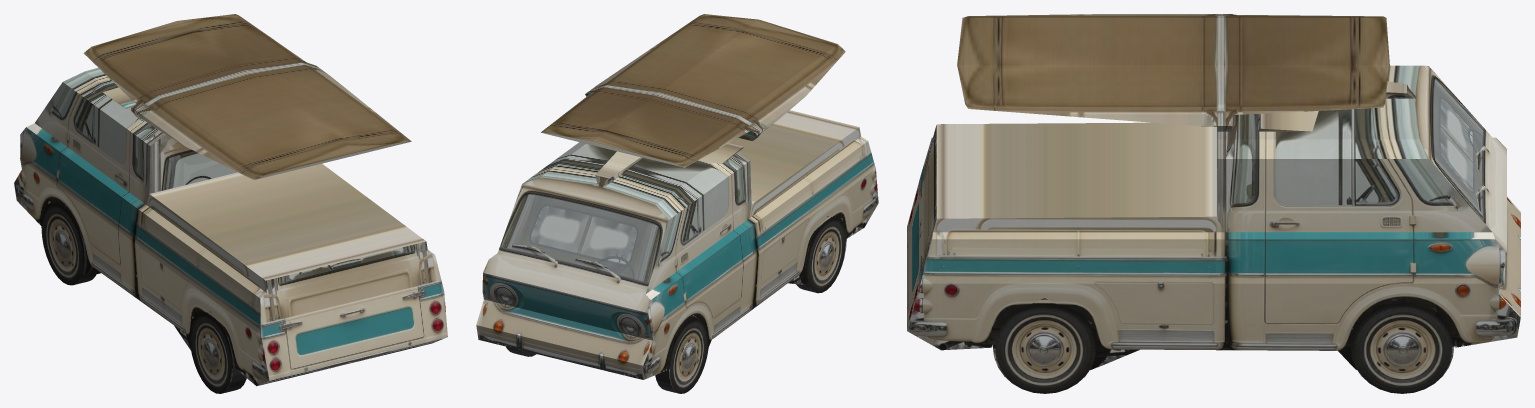
Rendered from utility_cart.glb.
The picture shows the model from 3 angles, left to right: view 1: azimuth 30°, elevation 25°; view 2: azimuth 150°, elevation 25°; view 3: azimuth 270°, elevation 25°; orthographic projection. The views are drawn at different scales.
Parts seen in each view (by area): view 1: utility_cart, wheel_BL, wheel_FL; view 2: utility_cart, wheel_FL, wheel_BL; view 3: utility_cart, wheel_BR, wheel_FR.
Boxes of the visible parts, x1=… form: utility_cart: x1=14, y1=14, x2=447, y2=386; wheel_BL: x1=189, y1=311, x2=246, y2=393; wheel_FL: x1=41, y1=202, x2=96, y2=285; utility_cart: x1=476, y1=14, x2=878, y2=379; wheel_FL: x1=655, y1=315, x2=708, y2=393; wheel_BL: x1=796, y1=216, x2=846, y2=293; utility_cart: x1=907, y1=14, x2=1520, y2=369; wheel_BR: x1=992, y1=298, x2=1096, y2=393; wheel_FR: x1=1350, y1=299, x2=1454, y2=393.
Size of the model in its own units: 1.26 by 1.55 by 3.
3 materials, 1 textured.
